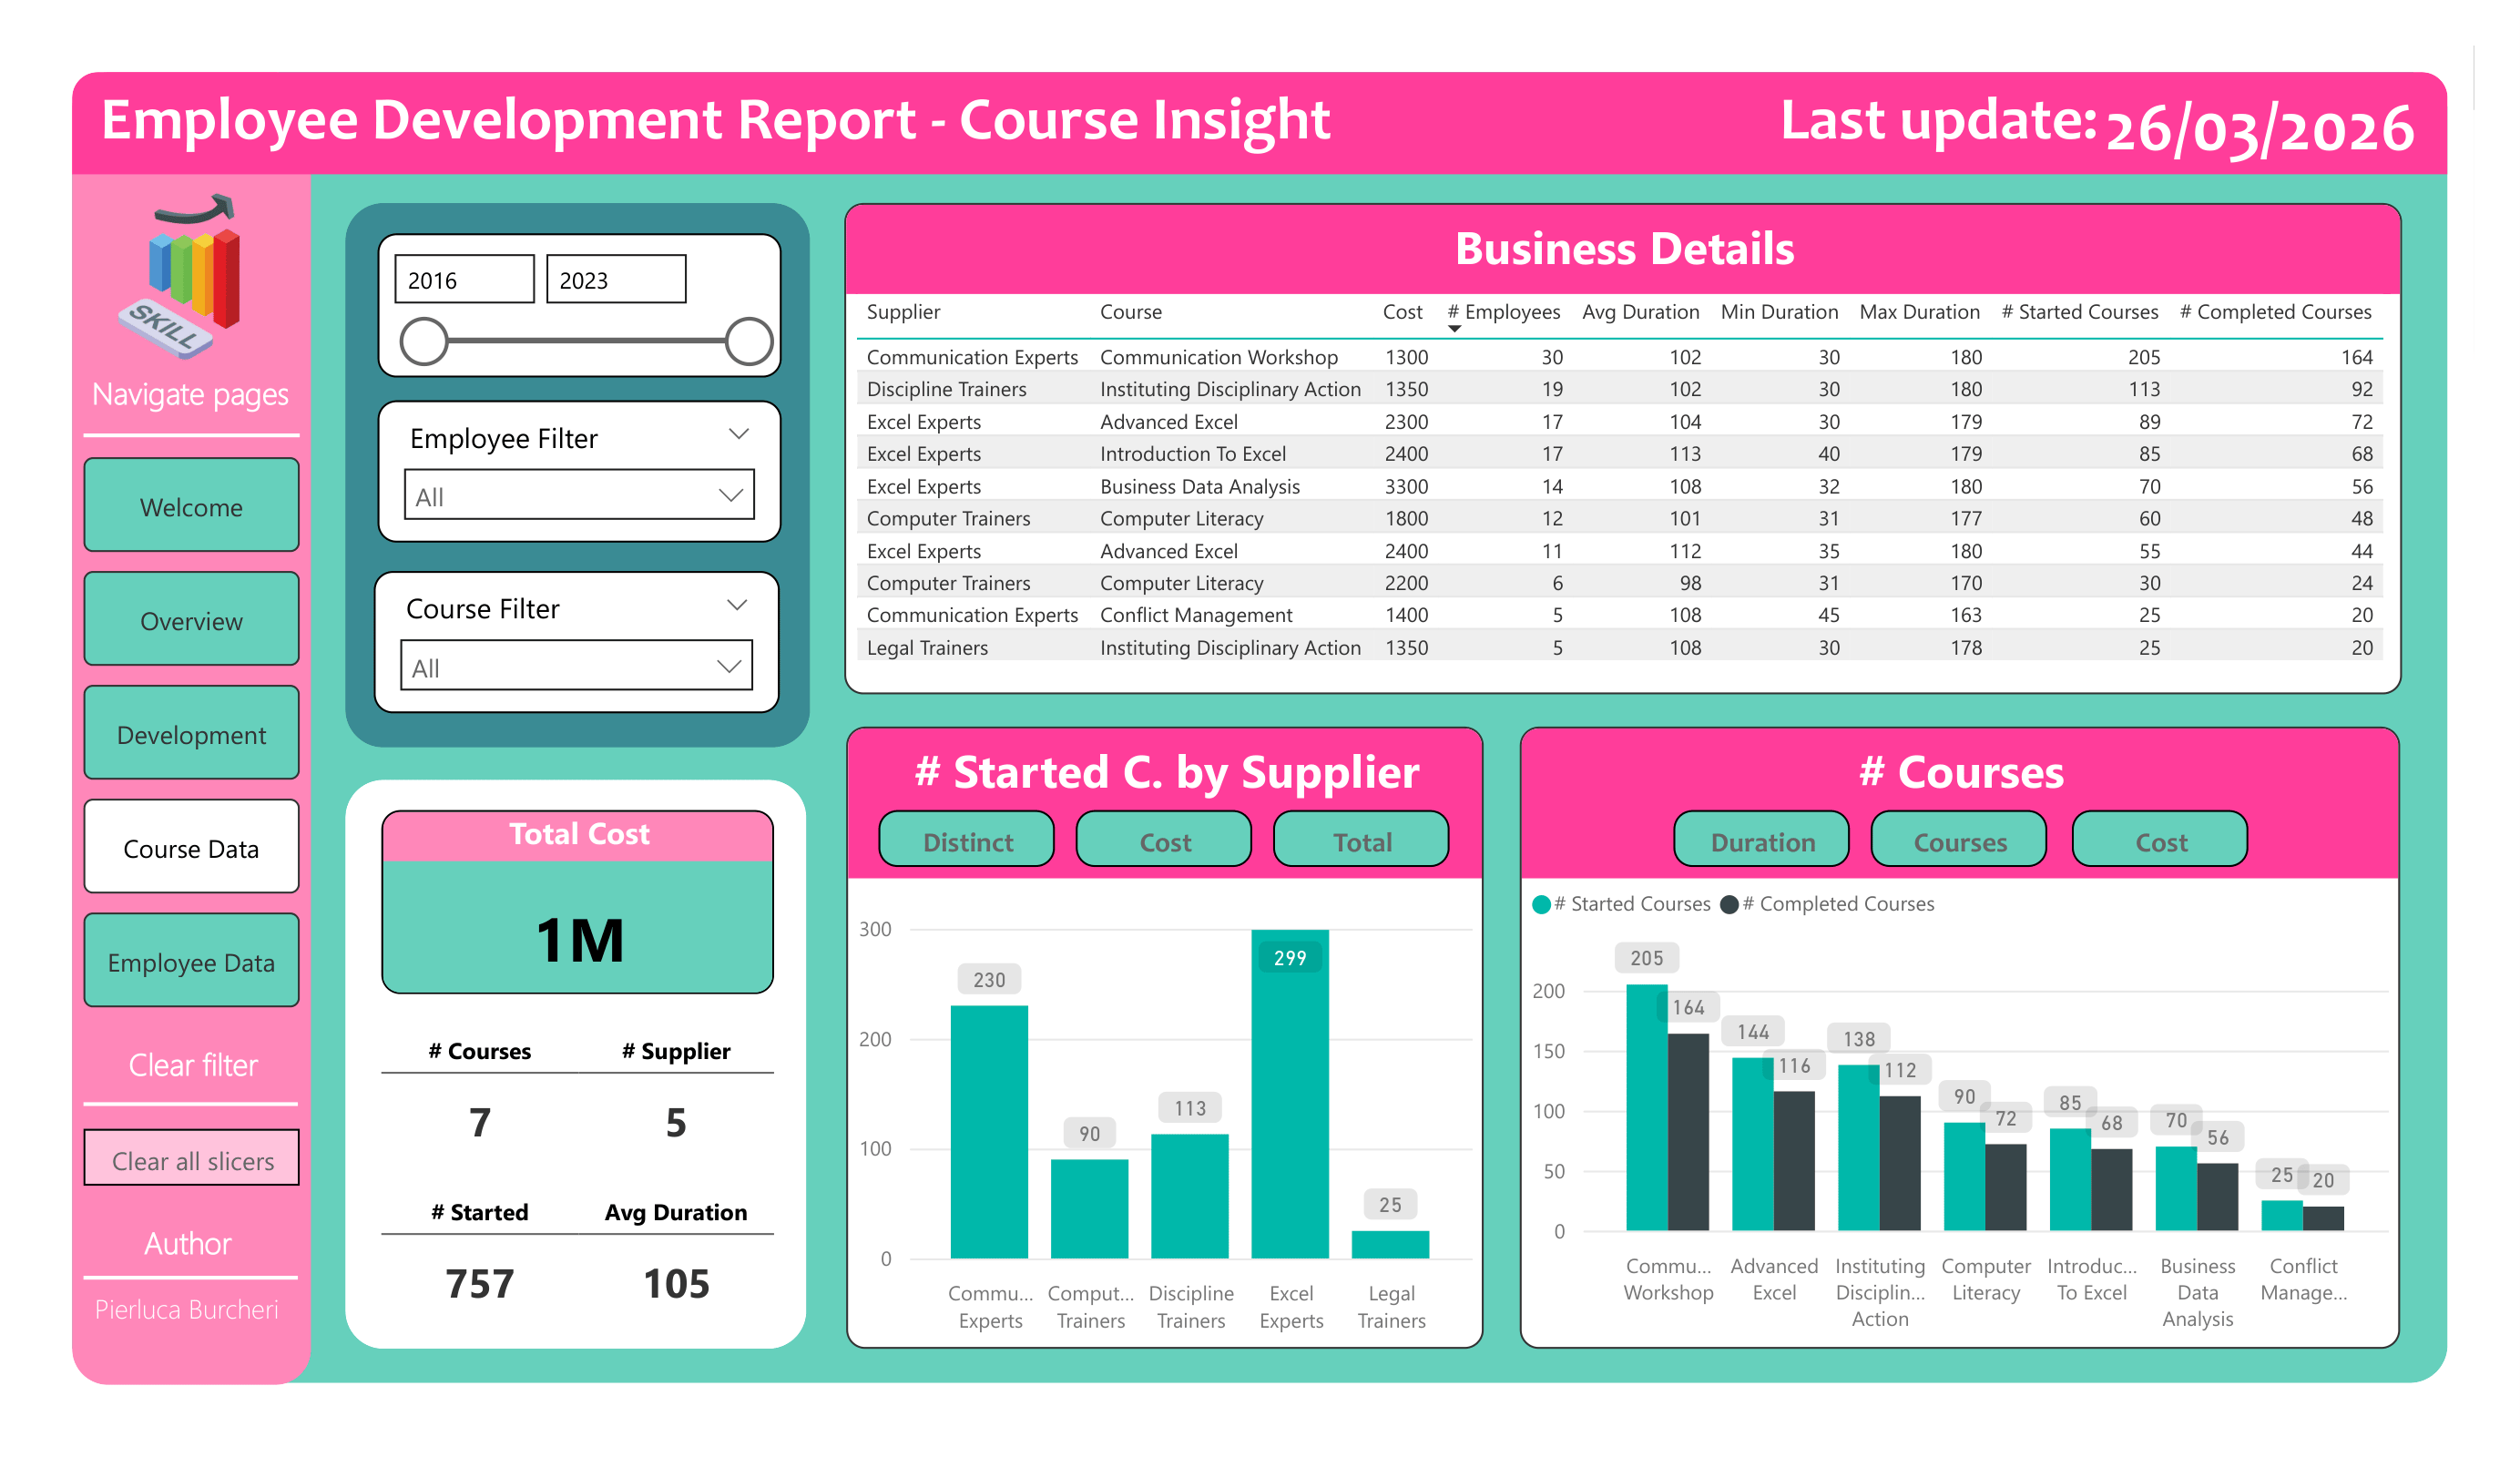

The page's visual inventory and layout, read from the dashboard file:
{"tool":"powerbi","page":{"name":"Course Data","canvas":[1280,720],"ordinal":3},"visuals":[{"type":"shape","box":[14.2,14.2,1251.6,690.6],"z":0},{"type":"shape","box":[14.2,14.2,126,691.5],"z":1000},{"type":"shape","box":[158.3,386.7,243.3,300],"z":1000,"group":"g2"},{"type":"shape","box":[14.2,14.2,1252.2,53.6],"z":2000},{"type":"textbox","box":[23.6,14.2,721.4,52],"z":3000},{"type":"cardVisual","title":"Total Cost","fields":{"Data":["_Measures.Total Cost"]},"box":[177,402.8,207.6,96.4],"z":3000,"group":"g2"},{"type":"textbox","box":[909.4,14.2,222.8,52.7],"z":4000},{"type":"card","fields":{"Values":["_Date Master.TODAY"]},"box":[1077.5,14.2,180.3,52.7],"z":5000},{"type":"cardVisual","title":"# Courses","fields":{"Data":["_Measures.# Courses"]},"box":[177,520.4,103.8,64.3],"z":5000,"group":"g2"},{"type":"textbox","box":[7.9,167.4,137,31.5],"z":6000},{"type":"shape","box":[20.5,184.7,113.4,41],"z":7000},{"type":"cardVisual","title":"# Supplier","fields":{"Data":["Count(Workshop Data.Supplier)"]},"box":[280.8,520.4,103.8,64.3],"z":7000,"group":"g2"},{"type":"group","id":"g1","title":"Group 1","box":[20.5,614.8,113.4,71.9],"z":8000},{"type":"actionButton","box":[20.5,570.6,113.4,29.9],"z":9000},{"type":"cardVisual","title":"# Started","fields":{"Data":["_Measures.# Started Courses"]},"box":[177,605.9,103.8,64.3],"z":9000,"group":"g2"},{"type":"shape","box":[20,537.6,113.4,40.5],"z":10000},{"type":"textbox","box":[7.9,521.4,139.7,38.5],"z":11000},{"type":"cardVisual","title":"Avg Duration","fields":{"Data":["_Measures.Avg Duration"]},"box":[280.8,605.9,103.8,64.3],"z":11000,"group":"g2"},{"type":"pageNavigator","box":[20.5,217.4,113.4,289.8],"z":12000},{"type":"tableEx","title":"Business Details","fields":{"Values":["Workshop Data.Course Hierarchy.Supplier","Workshop Data.Course Hierarchy.Course","Workshop Data.Cost","_Measures.# Employees","_Measures.Avg Duration","_Measures.Min Duration","_Measures.Max Duration","_Measures.# Started Courses","_Measures.# Completed Courses"]},"box":[421.3,83,820.3,259.2],"z":15000},{"type":"shape","box":[158.3,83.3,245,286.7],"z":16000},{"type":"slicer","fields":{"Values":["_Date Master.Year"]},"box":[174.8,99,213,75.8],"z":17000},{"type":"image","box":[0,67.7,140.2,107.1],"z":18000},{"type":"slicer","fields":{"Values":["Employee Data.Dept Hierarchy.Dept","Employee Data.Dept Hierarchy.Job Grade","Employee Data.Dept Hierarchy.Employee"]},"box":[175,186.7,213.3,75],"z":19000},{"type":"slicer","fields":{"Values":["Workshop Data.Course.Supplier","Workshop Data.Course.Course Name"]},"box":[173.3,276.7,213.3,75],"z":20000},{"type":"group","id":"g2","title":"Group 2","box":[158.3,386.7,243.3,300],"z":21000},{"type":"clusteredColumnChart","title":"# Started C. by Supplier","fields":{"Category":["Workshop Data.Supplier"],"Y":["_Measures.# Started Courses"]},"box":[422.1,359.1,335.5,327.6],"z":22000},{"type":"clusteredColumnChart","title":"# Courses","fields":{"Category":["Workshop Data.Course"],"Y":["_Measures.# Courses","_Measures.# Completed Courses"]},"box":[776.5,359.1,464.6,327.6],"z":23000},{"type":"shape","box":[20.5,629,113.4,41],"z":25000,"group":"g1"},{"type":"actionButton","box":[439.4,403.2,92.9,29.9],"z":26000},{"type":"textbox","box":[31.5,614.8,88.2,37.8],"z":26000,"group":"g1"},{"type":"actionButton","box":[647.4,403.2,92.9,29.9],"z":27000},{"type":"textbox","box":[20.5,650.5,108.7,36.2],"z":27000,"group":"g1"},{"type":"actionButton","box":[543.4,403.2,92.9,29.9],"z":28000},{"type":"actionButton","box":[962.4,403.2,92.9,29.9],"z":28500},{"type":"actionButton","box":[858.4,403.2,92.9,29.9],"z":29000},{"type":"actionButton","box":[1067.9,403.2,92.9,29.9],"z":29500}]}

Visuals, with their boxes on the page's 1280x720 design canvas (x1, y1, x2, y2). These are canvas units, not pixel positions in the 2520x1457 screenshot, which may show the page scaled, cropped or inside an application window:
shape: pyautogui.locateOnScreen(14, 14, 1266, 705)
shape: pyautogui.locateOnScreen(14, 14, 140, 706)
shape: pyautogui.locateOnScreen(158, 387, 402, 687)
shape: pyautogui.locateOnScreen(14, 14, 1266, 68)
textbox: pyautogui.locateOnScreen(24, 14, 745, 66)
"Total Cost" cardVisual: pyautogui.locateOnScreen(177, 403, 385, 499)
textbox: pyautogui.locateOnScreen(909, 14, 1132, 67)
card - _Date Master.TODAY: pyautogui.locateOnScreen(1078, 14, 1258, 67)
"# Courses" cardVisual: pyautogui.locateOnScreen(177, 520, 281, 585)
textbox: pyautogui.locateOnScreen(8, 167, 145, 199)
shape: pyautogui.locateOnScreen(20, 185, 134, 226)
"# Supplier" cardVisual: pyautogui.locateOnScreen(281, 520, 385, 585)
"Group 1" group: pyautogui.locateOnScreen(20, 615, 134, 687)
actionButton: pyautogui.locateOnScreen(20, 571, 134, 600)
"# Started" cardVisual: pyautogui.locateOnScreen(177, 606, 281, 670)
shape: pyautogui.locateOnScreen(20, 538, 133, 578)
textbox: pyautogui.locateOnScreen(8, 521, 148, 560)
"Avg Duration" cardVisual: pyautogui.locateOnScreen(281, 606, 385, 670)
pageNavigator: pyautogui.locateOnScreen(20, 217, 134, 507)
"Business Details" tableEx: pyautogui.locateOnScreen(421, 83, 1242, 342)
shape: pyautogui.locateOnScreen(158, 83, 403, 370)
slicer - _Date Master.Year: pyautogui.locateOnScreen(175, 99, 388, 175)
image: pyautogui.locateOnScreen(0, 68, 140, 175)
slicer - Employee Data.Dept Hierarchy.Dept x Employee Data.Dept Hierarchy.Job Grade: pyautogui.locateOnScreen(175, 187, 388, 262)
slicer - Workshop Data.Course.Supplier x Workshop Data.Course.Course Name: pyautogui.locateOnScreen(173, 277, 387, 352)
"Group 2" group: pyautogui.locateOnScreen(158, 387, 402, 687)
"# Started C. by Supplier" clusteredColumnChart: pyautogui.locateOnScreen(422, 359, 758, 687)
"# Courses" clusteredColumnChart: pyautogui.locateOnScreen(776, 359, 1241, 687)
shape: pyautogui.locateOnScreen(20, 629, 134, 670)
actionButton: pyautogui.locateOnScreen(439, 403, 532, 433)
textbox: pyautogui.locateOnScreen(32, 615, 120, 653)
actionButton: pyautogui.locateOnScreen(647, 403, 740, 433)
textbox: pyautogui.locateOnScreen(20, 650, 129, 687)
actionButton: pyautogui.locateOnScreen(543, 403, 636, 433)
actionButton: pyautogui.locateOnScreen(962, 403, 1055, 433)
actionButton: pyautogui.locateOnScreen(858, 403, 951, 433)
actionButton: pyautogui.locateOnScreen(1068, 403, 1161, 433)
